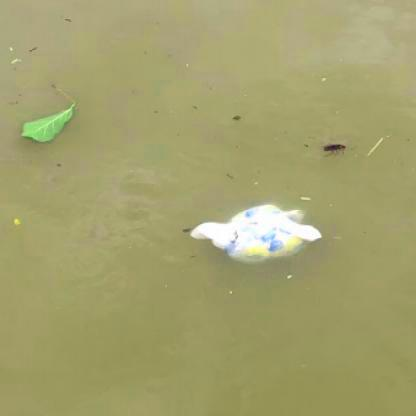Trash: (186, 194, 328, 272)
